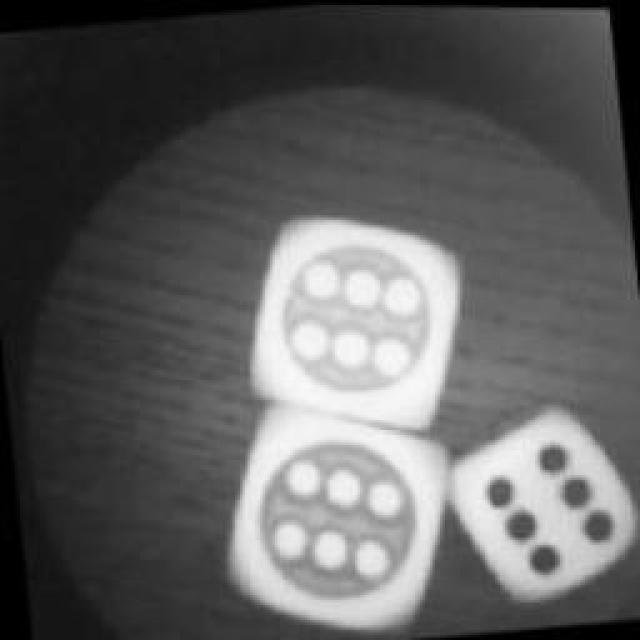dice_6: (215, 392, 450, 640), (241, 185, 474, 427), (437, 397, 640, 610)
